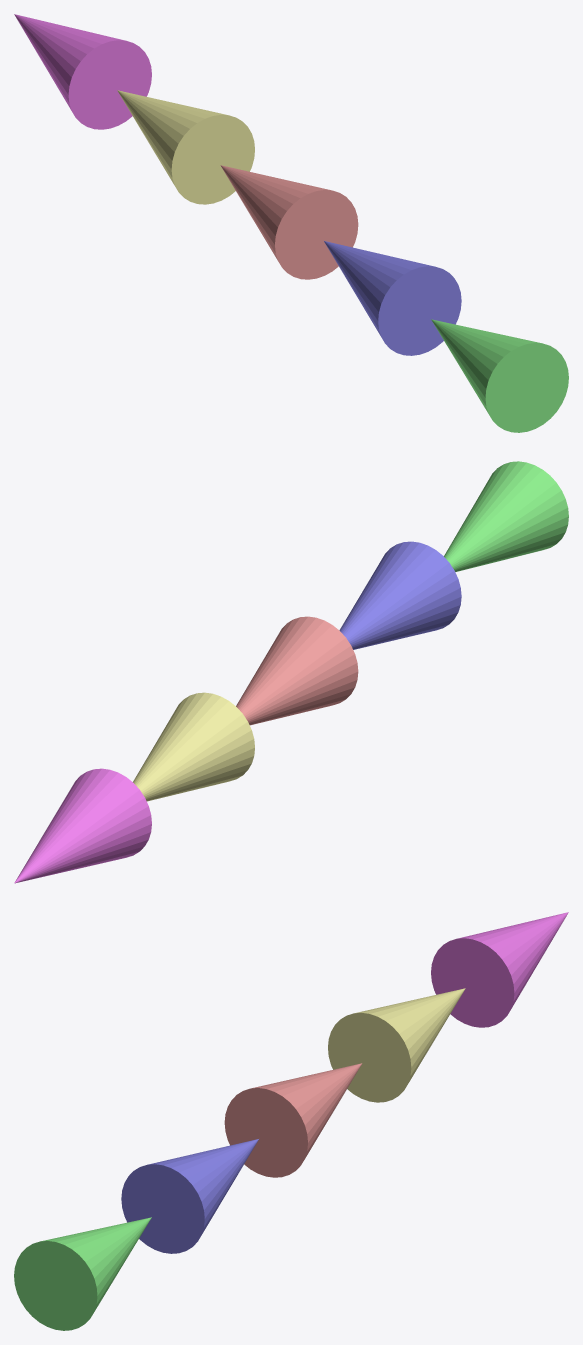
The model's file is sausage5.dae.
3 renders of one model, top to bottom at view 1: azimuth 30°, elevation 25°; view 2: azimuth 150°, elevation 25°; view 3: azimuth 330°, elevation 25°, orthographic.
Parts seen in each view (by area): view 1: Cone0, Cone1, Cone4, Cone2, Cone3; view 2: Cone4, Cone0, Cone2, Cone3, Cone1; view 3: Cone0, Cone1, Cone4, Cone2, Cone3.
Part boxes in pixels (bbox=[...]): Cone0: bbox=[431, 319, 568, 432]; Cone1: bbox=[324, 241, 461, 355]; Cone4: bbox=[14, 14, 151, 129]; Cone2: bbox=[220, 165, 358, 279]; Cone3: bbox=[117, 90, 254, 204]; Cone4: bbox=[14, 768, 151, 883]; Cone0: bbox=[444, 461, 568, 571]; Cone2: bbox=[236, 616, 358, 725]; Cone3: bbox=[133, 692, 254, 801]; Cone1: bbox=[339, 541, 461, 649]; Cone0: bbox=[14, 1217, 151, 1330]; Cone1: bbox=[121, 1139, 258, 1253]; Cone4: bbox=[431, 912, 568, 1027]; Cone2: bbox=[224, 1063, 362, 1177]; Cone3: bbox=[328, 988, 465, 1102].
Size of the model in its own units: 0.2002 by 2.13 by 0.2054.
